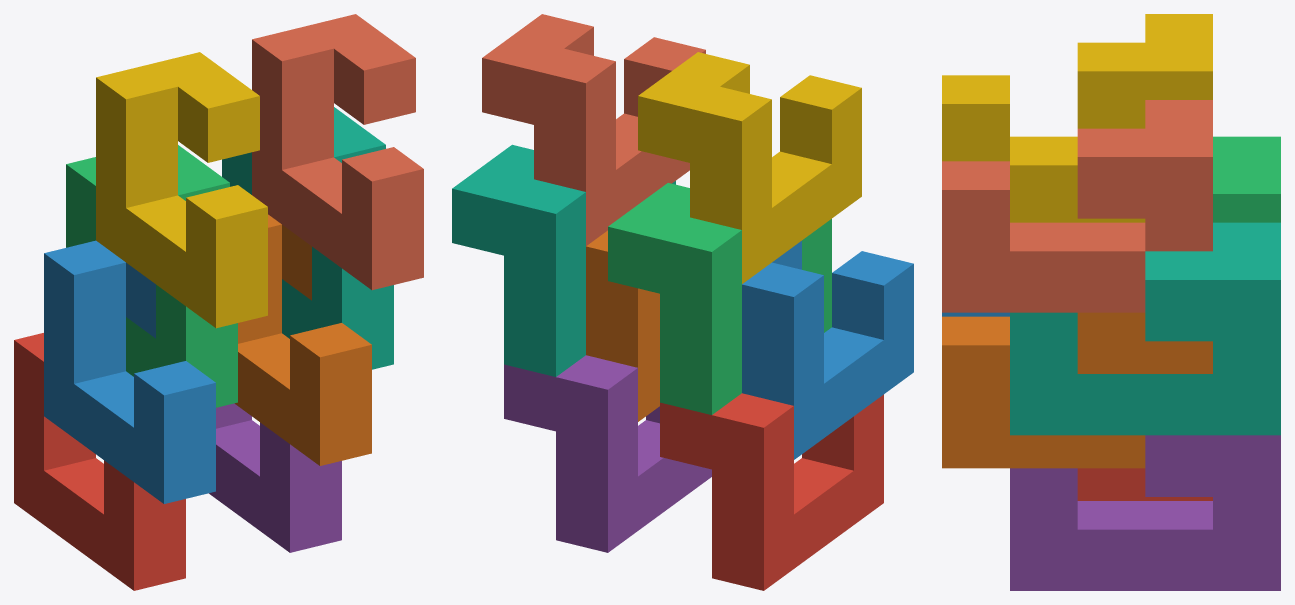
The model's file is tiling.obj.
The picture shows the model from 3 angles, left to right: view 1: azimuth 30°, elevation 25°; view 2: azimuth 150°, elevation 25°; view 3: azimuth 270°, elevation 25°; orthographic projection. The views are drawn at different scales.
Visible parts, largest first — view 1: copy_1_domain_4, copy_1_domain_8, copy_1_domain_2, copy_1_domain_1, copy_1_domain_6, copy_1_domain_5, copy_1_domain_3, copy_1_domain_7; view 2: copy_1_domain_4, copy_1_domain_1, copy_1_domain_2, copy_1_domain_8, copy_1_domain_3, copy_1_domain_5, copy_1_domain_7, copy_1_domain_6; view 3: copy_1_domain_8, copy_1_domain_7, copy_1_domain_5, copy_1_domain_4, copy_1_domain_6, copy_1_domain_3, copy_1_domain_1.
Boxes of the visible parts, x1,y1,x2,y2 form: copy_1_domain_4: [96, 52, 267, 328]; copy_1_domain_8: [252, 14, 423, 290]; copy_1_domain_2: [44, 240, 215, 503]; copy_1_domain_1: [14, 333, 185, 590]; copy_1_domain_6: [234, 214, 371, 465]; copy_1_domain_5: [209, 403, 341, 552]; copy_1_domain_3: [66, 145, 237, 407]; copy_1_domain_7: [222, 107, 393, 369]; copy_1_domain_4: [638, 52, 861, 283]; copy_1_domain_1: [660, 393, 883, 590]; copy_1_domain_2: [742, 241, 913, 459]; copy_1_domain_8: [482, 14, 705, 245]; copy_1_domain_3: [608, 183, 831, 414]; copy_1_domain_5: [504, 355, 711, 552]; copy_1_domain_7: [452, 144, 675, 376]; copy_1_domain_6: [586, 230, 659, 421]; copy_1_domain_8: [942, 100, 1212, 312]; copy_1_domain_7: [1010, 222, 1280, 435]; copy_1_domain_5: [1010, 435, 1280, 590]; copy_1_domain_4: [942, 14, 1212, 222]; copy_1_domain_6: [942, 312, 1212, 468]; copy_1_domain_3: [1213, 136, 1280, 222]; copy_1_domain_1: [1077, 468, 1212, 500].
Size of the model in its own units: 6 by 8 by 5.
